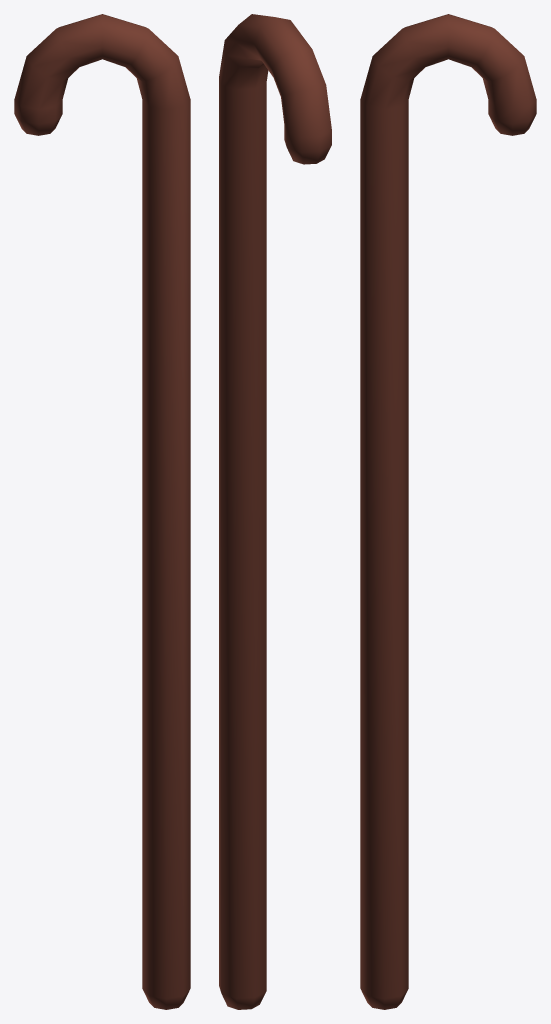
Rendered from Stick_01.fbx.
3 renders of one model, left to right at view 1: azimuth 90°, elevation 25°; view 2: azimuth 210°, elevation 25°; view 3: azimuth 270°, elevation 25°, orthographic. The views are drawn at different scales.
Visible parts, largest first — view 1: Stick_01; view 2: Stick_01; view 3: Stick_01.
Boxes of the visible parts, x1,y1,x2,y2 form: Stick_01: (14, 14, 190, 1009); Stick_01: (219, 14, 331, 1009); Stick_01: (360, 14, 536, 1009).
Size of the model in its own units: 4.37 by 15.95 by 99.28.
